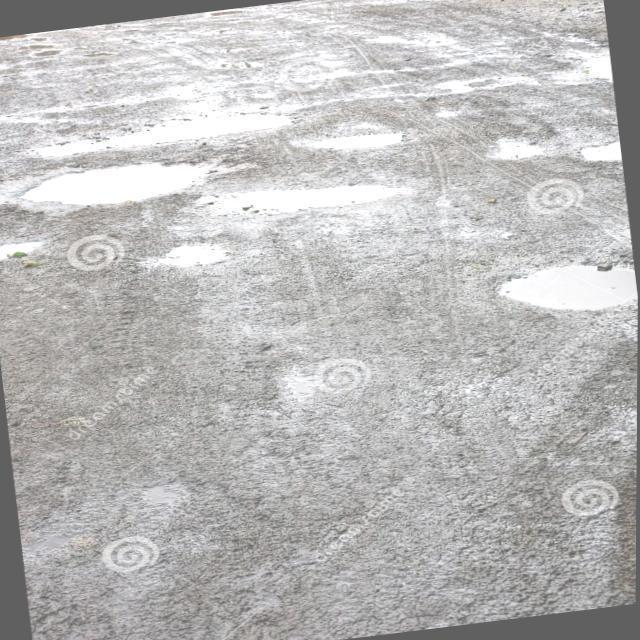Pothole: (37, 106, 299, 157), (11, 157, 214, 207), (193, 180, 415, 213), (500, 260, 638, 310), (306, 126, 403, 150)
